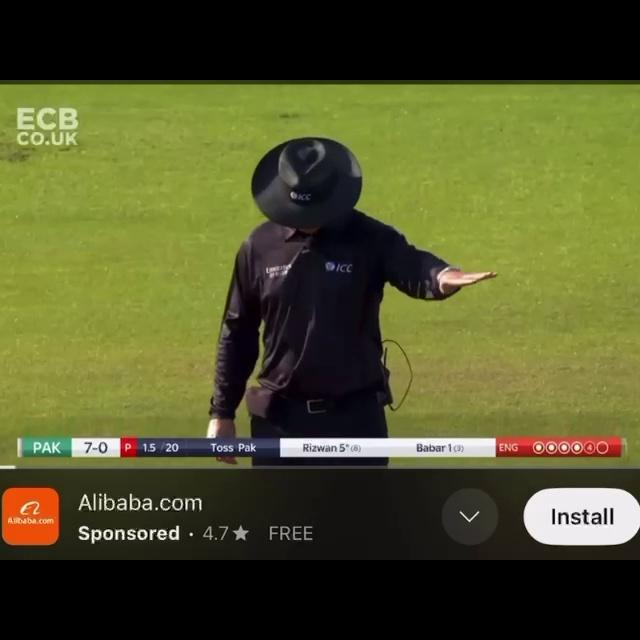umpire: (154, 105, 564, 432)
